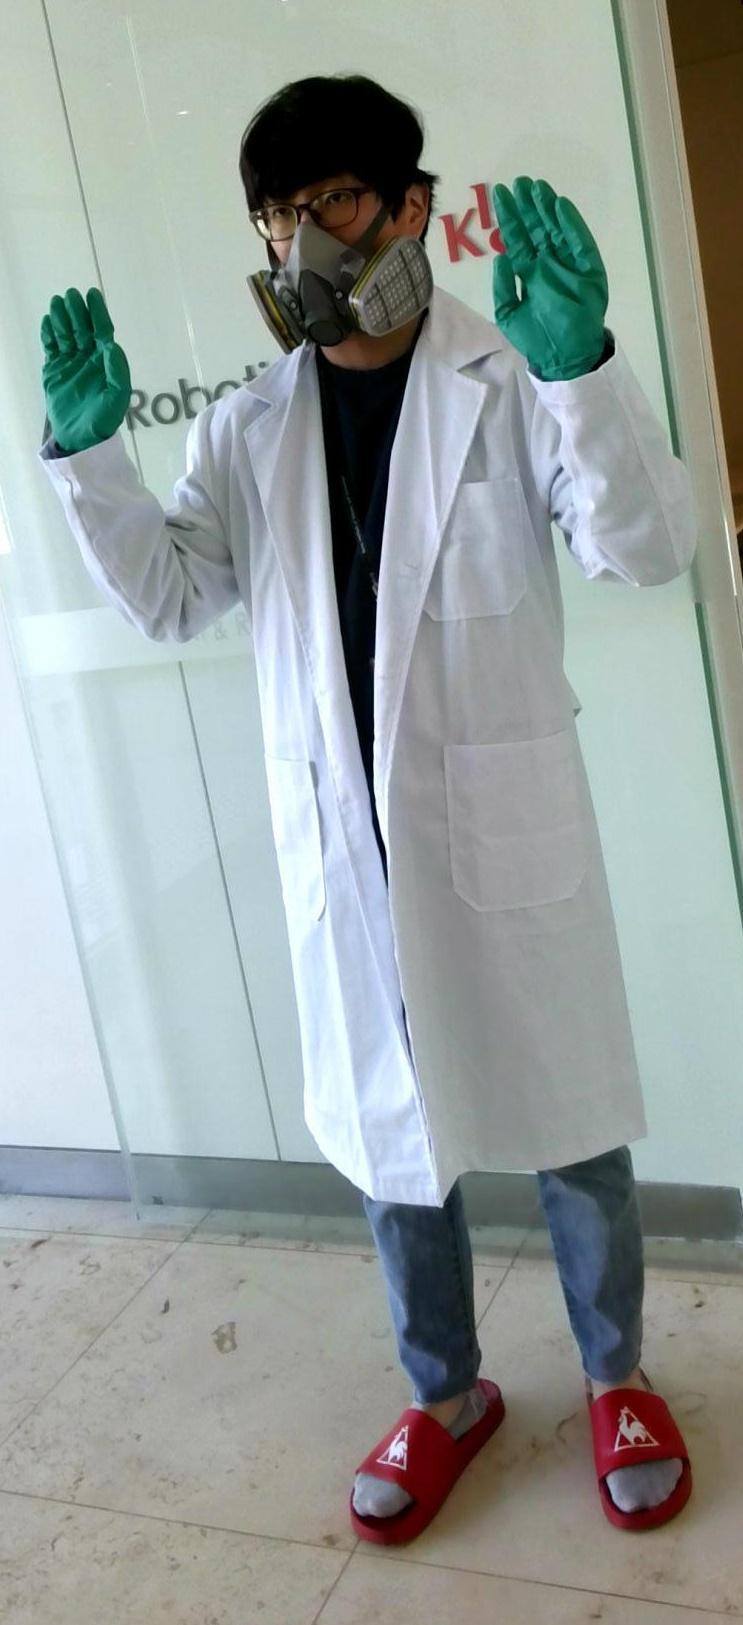lab_coat: (196, 380, 630, 1187)
